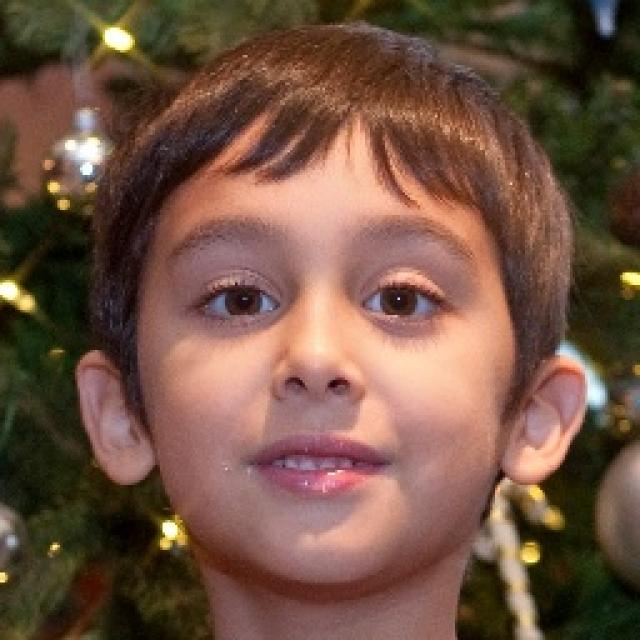earlobe: (106, 440, 150, 489), (510, 438, 550, 486)
eye: (361, 270, 446, 326), (193, 274, 281, 327)
nose: (272, 387, 369, 425)
wholeear: (501, 356, 588, 486), (75, 350, 151, 489)
